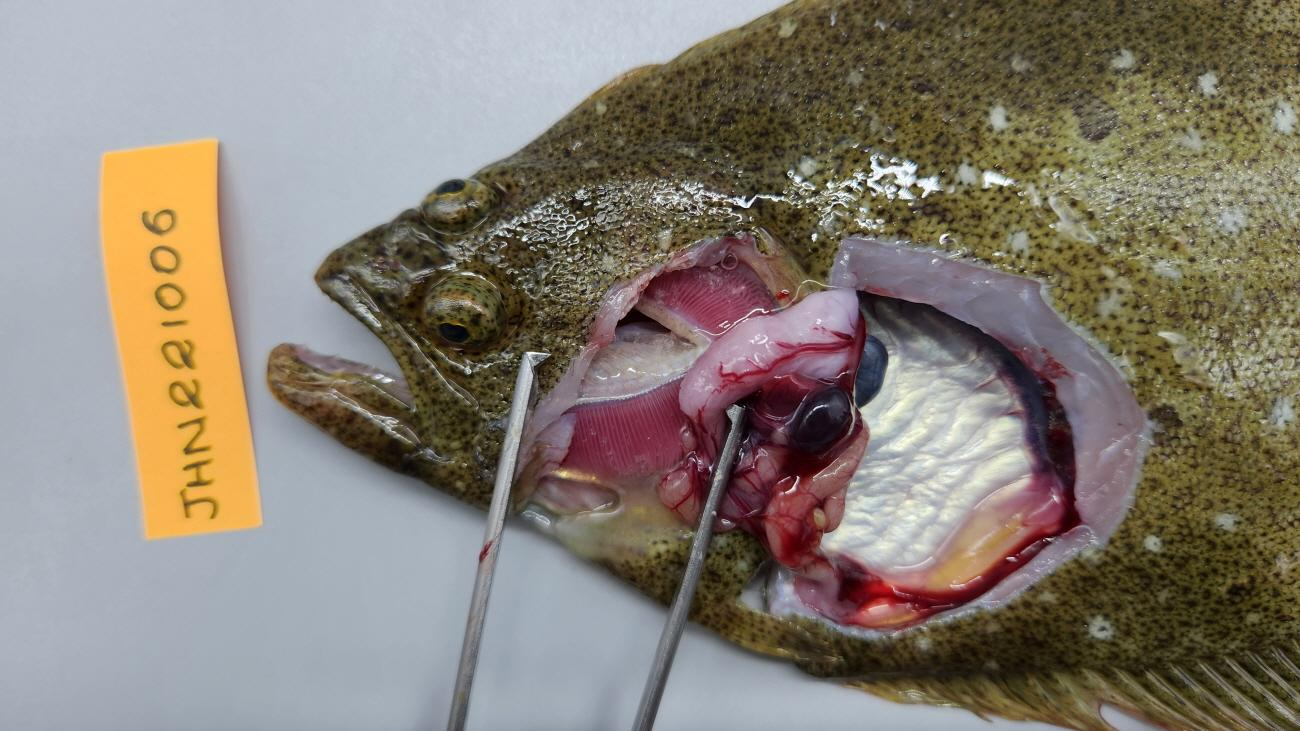POINN: (763, 418, 870, 567)
POSPN: (790, 385, 853, 459)
